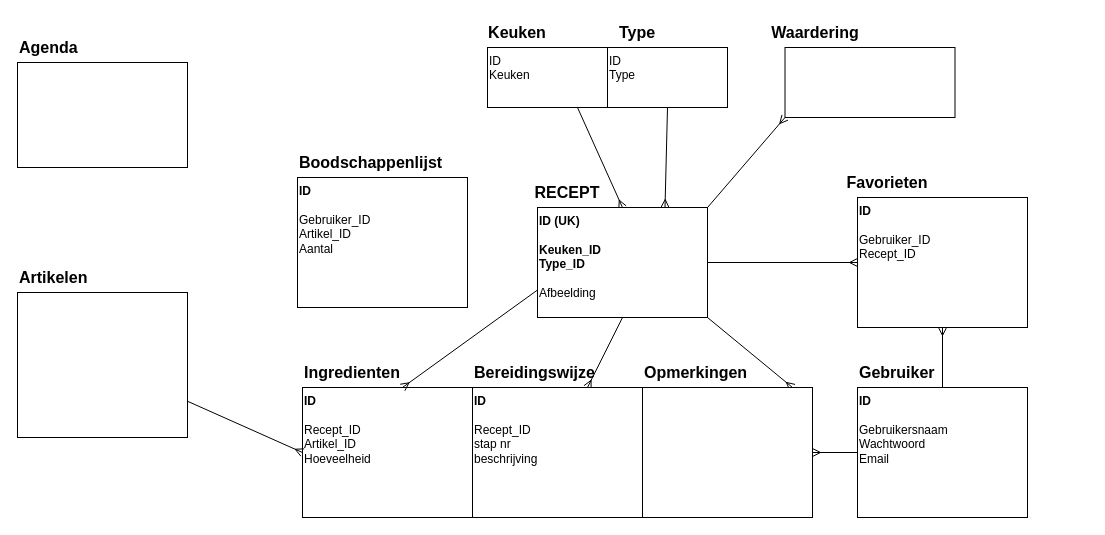
Image size: 1105x535. Some labels were removed from this diagram. Here are the shapes that lost their labels. From the top down, the centre of each, then its label:
At (x=869, y=82): "ID Recept_ID (UK) Waardering".
At (x=102, y=115): "ID Titel Beschrijving Datum".
At (x=102, y=365): "ID Artikel Afbeelding Beschrijving Hoeveelheid eenheid artikel prijs calorieen".
At (x=727, y=452): "ID Recept_ID Gebruiker_ID Opmerking".
